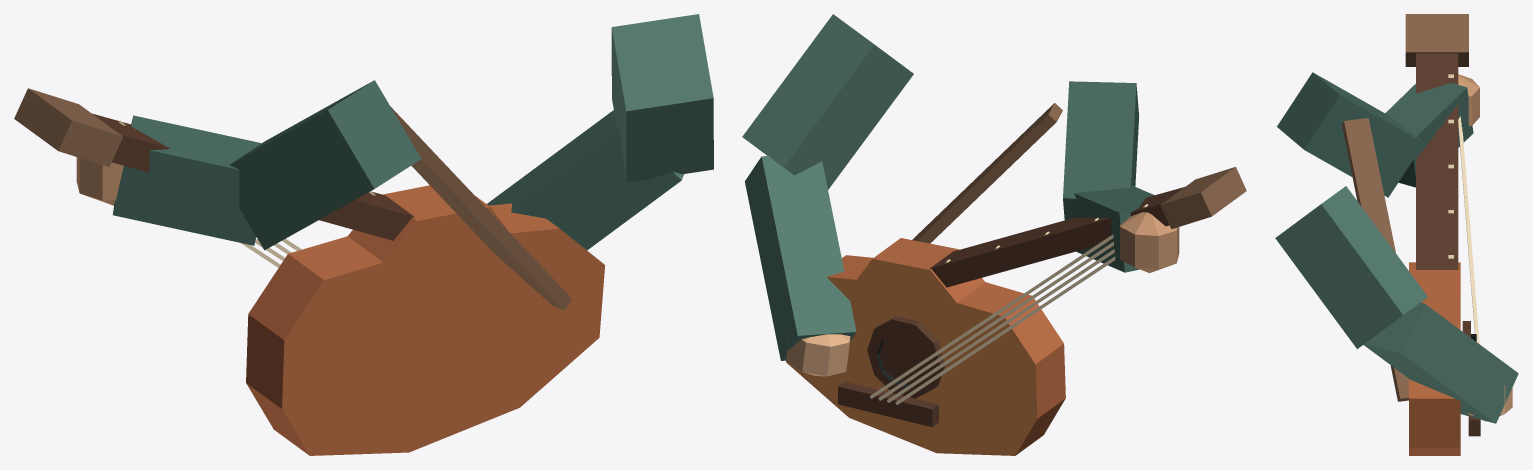
The model's file is lwf_performer_acoustic_guitar_kit_v1.glb.
The picture shows the model from 3 angles, left to right: view 1: azimuth 30°, elevation 25°; view 2: azimuth 150°, elevation 25°; view 3: azimuth 270°, elevation 25°; orthographic projection. The views are drawn at different scales.
Parts seen in each view (by area): view 1: LWF_Guitarist_AcousticGuitar, LWF_Guitar_FrettingArm, LWF_Guitarist_StrummingArm, LWF_Guitar_LeatherStrap; view 2: LWF_Guitarist_AcousticGuitar, LWF_Guitarist_StrummingArm, LWF_Guitar_FrettingArm, LWF_Guitar_LeatherStrap; view 3: LWF_Guitarist_StrummingArm, LWF_Guitarist_AcousticGuitar, LWF_Guitar_FrettingArm, LWF_Guitar_LeatherStrap.
Part boxes in pixels (x1,y1,x2,y2): LWF_Guitarist_AcousticGuitar: (14, 88, 605, 455); LWF_Guitar_FrettingArm: (76, 80, 421, 250); LWF_Guitarist_StrummingArm: (487, 14, 713, 250); LWF_Guitar_LeatherStrap: (390, 106, 571, 310); LWF_Guitarist_AcousticGuitar: (786, 167, 1246, 455); LWF_Guitarist_StrummingArm: (742, 14, 913, 376); LWF_Guitar_FrettingArm: (1063, 81, 1179, 273); LWF_Guitar_LeatherStrap: (912, 103, 1062, 243); LWF_Guitarist_StrummingArm: (1275, 186, 1518, 423); LWF_Guitarist_AcousticGuitar: (1405, 14, 1480, 455); LWF_Guitar_FrettingArm: (1277, 72, 1479, 197); LWF_Guitar_LeatherStrap: (1342, 118, 1408, 401).
Bounding box in the file's own units: 1.13 × 0.7205 × 0.5197.
1 material, 1 textured.
